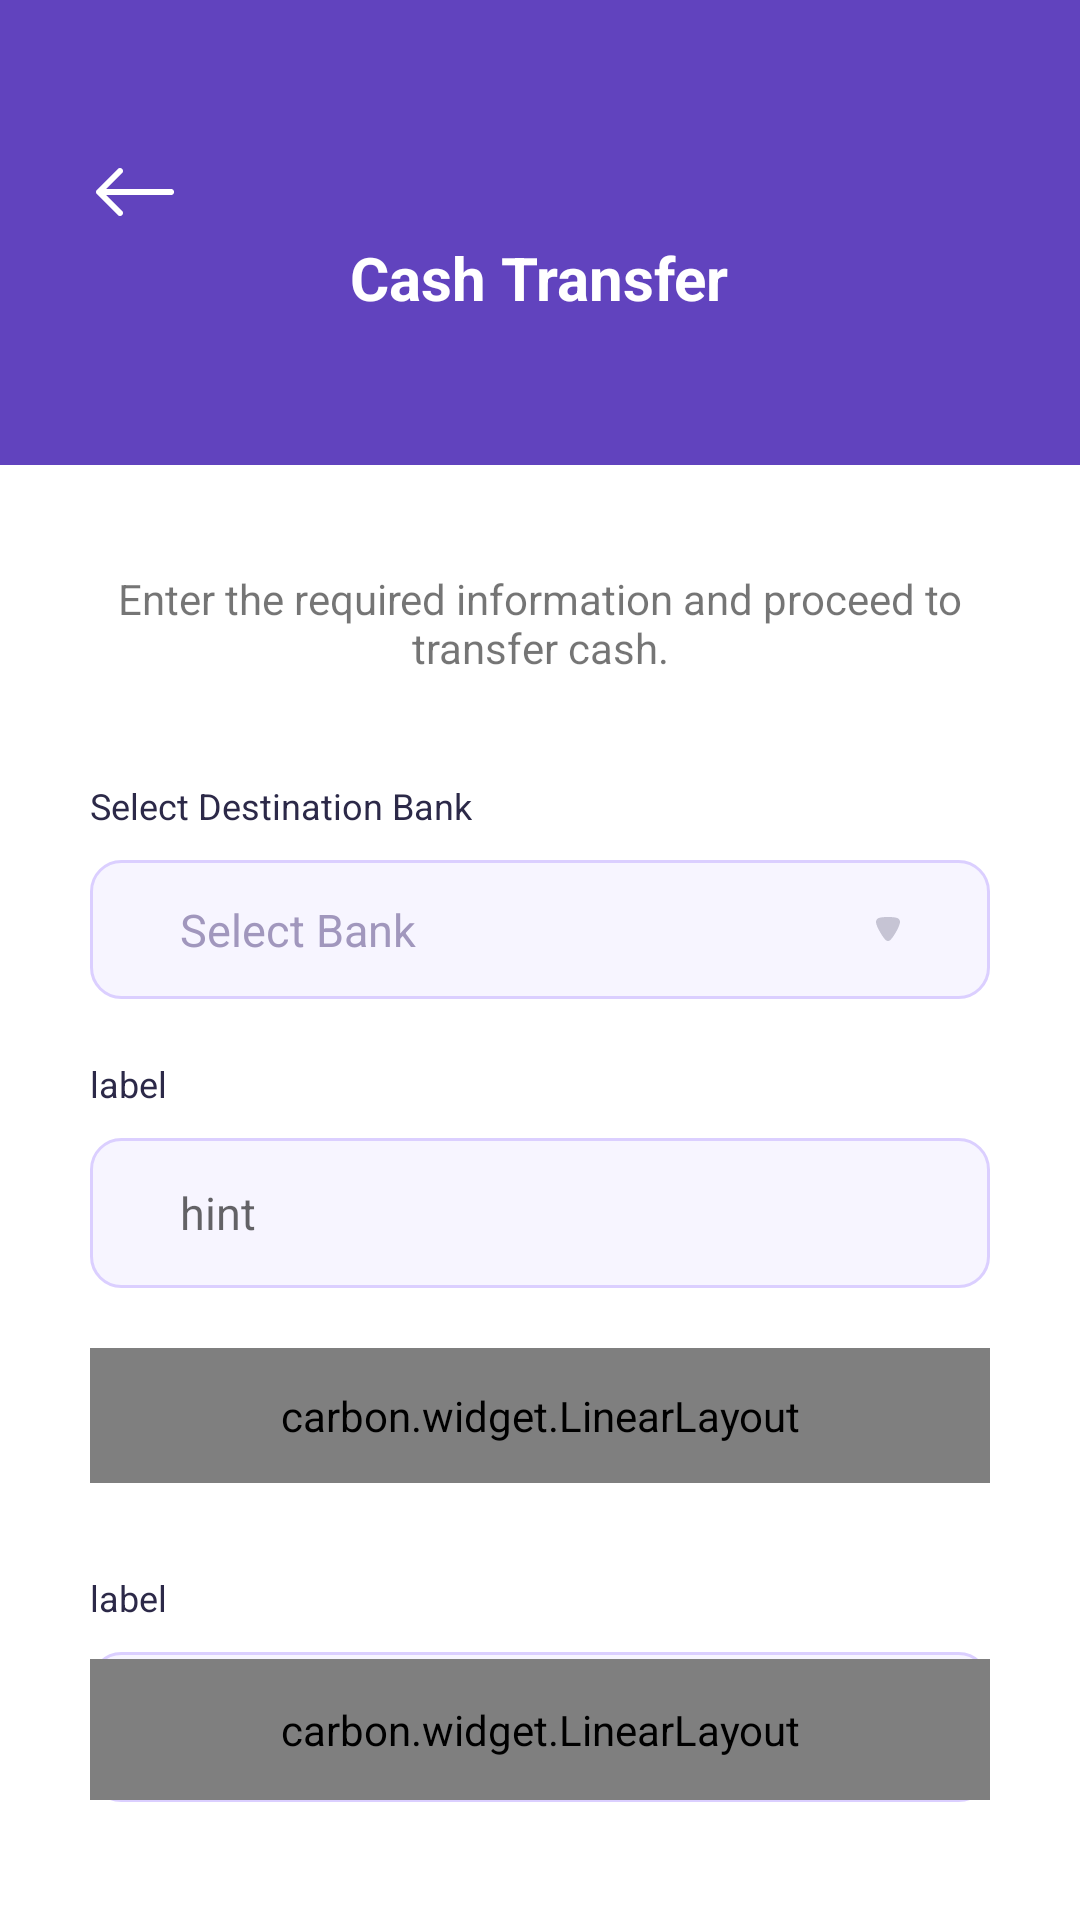

Icon bounding boxes for this 1080×1920 phone screenshot, format (x1, y1, x2, y2):
arrow left: (96, 168, 174, 216)
dropdown arrow: (876, 917, 900, 941)
